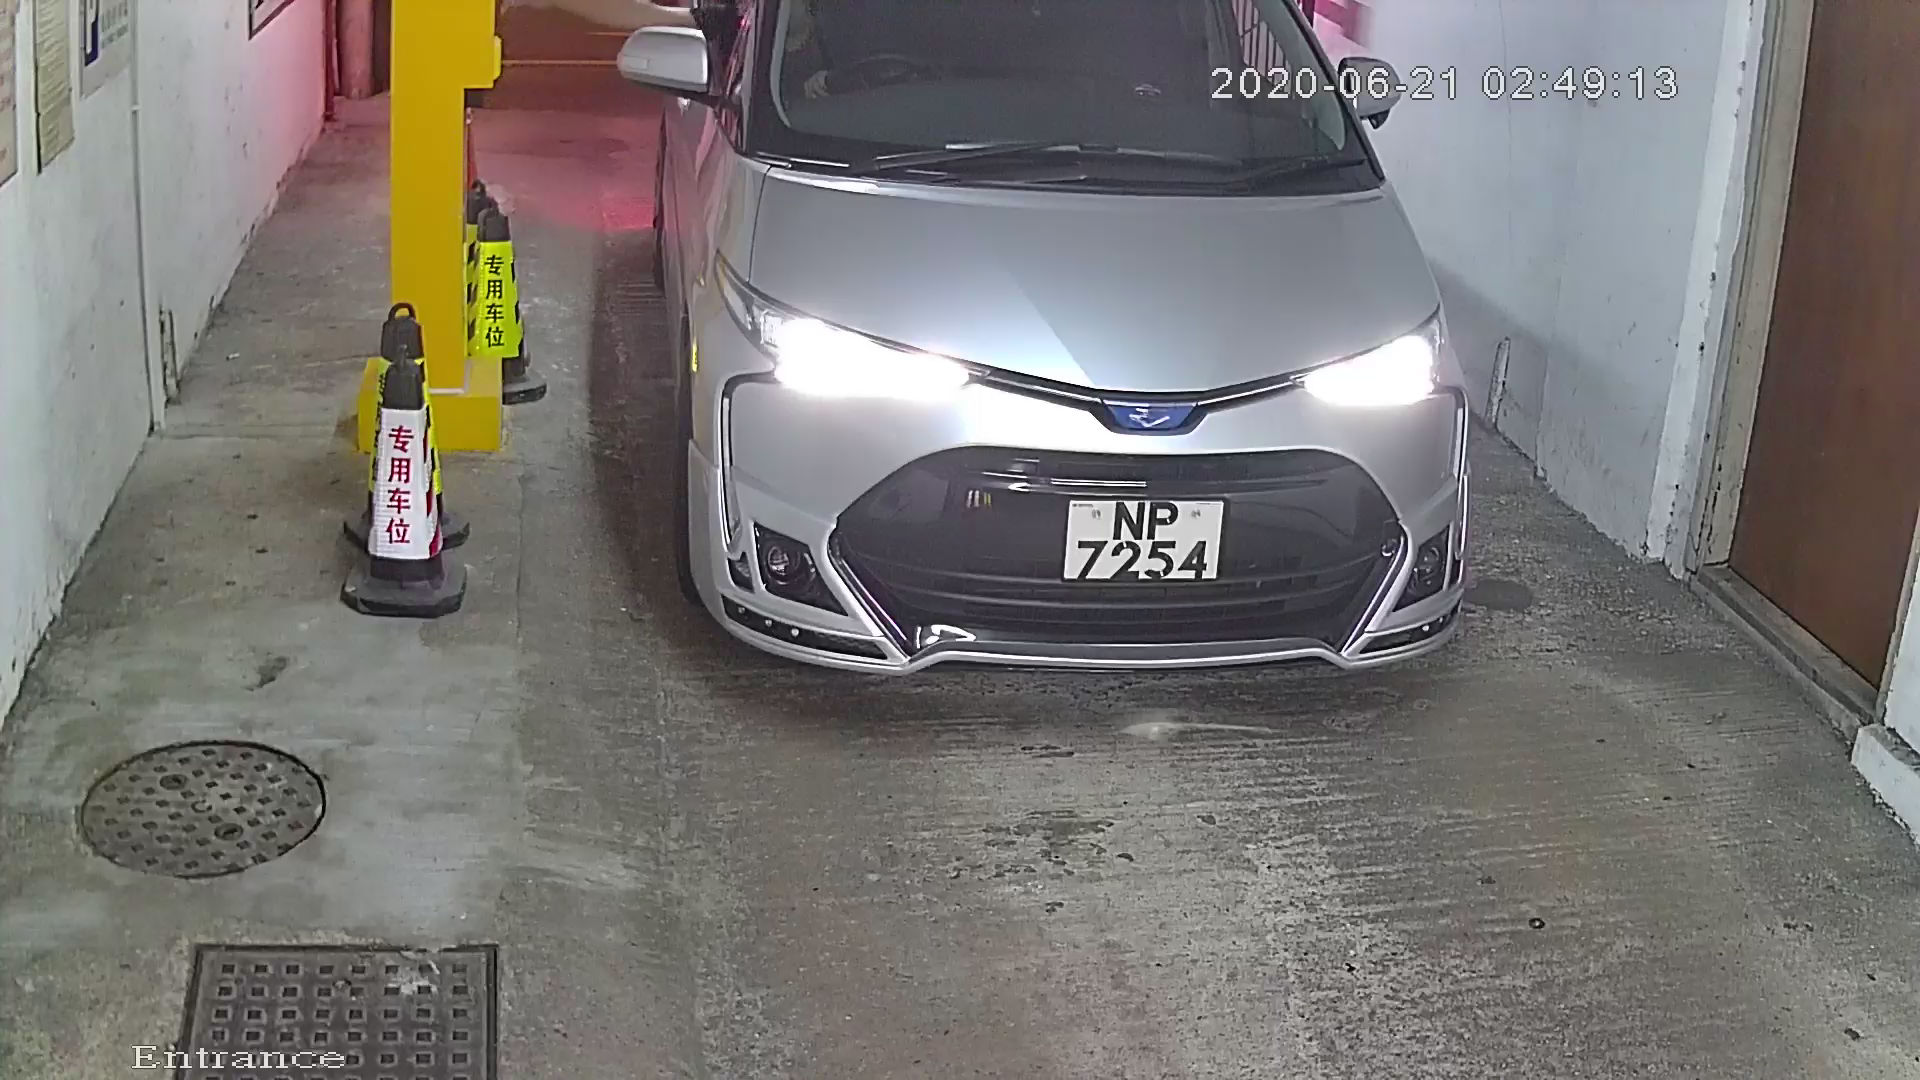privatecar: (587, 3, 1531, 764)
